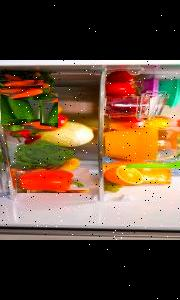Brocoli: (6, 140, 78, 171)
Pepino: (23, 94, 57, 130), (0, 94, 39, 125)
Pimiento: (15, 168, 88, 193)
Tomate: (103, 81, 140, 96), (106, 71, 136, 82)
Zanahoria: (8, 88, 50, 100), (0, 80, 42, 88)
